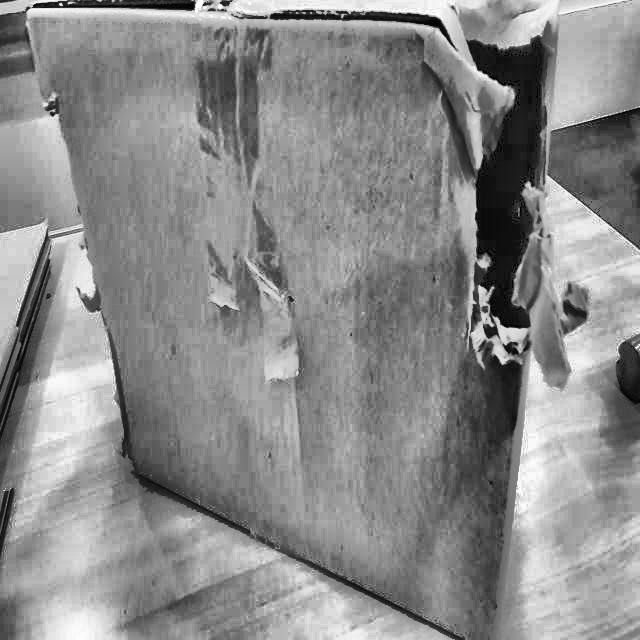box: (15, 0, 578, 639)
hole: (433, 6, 549, 384)
